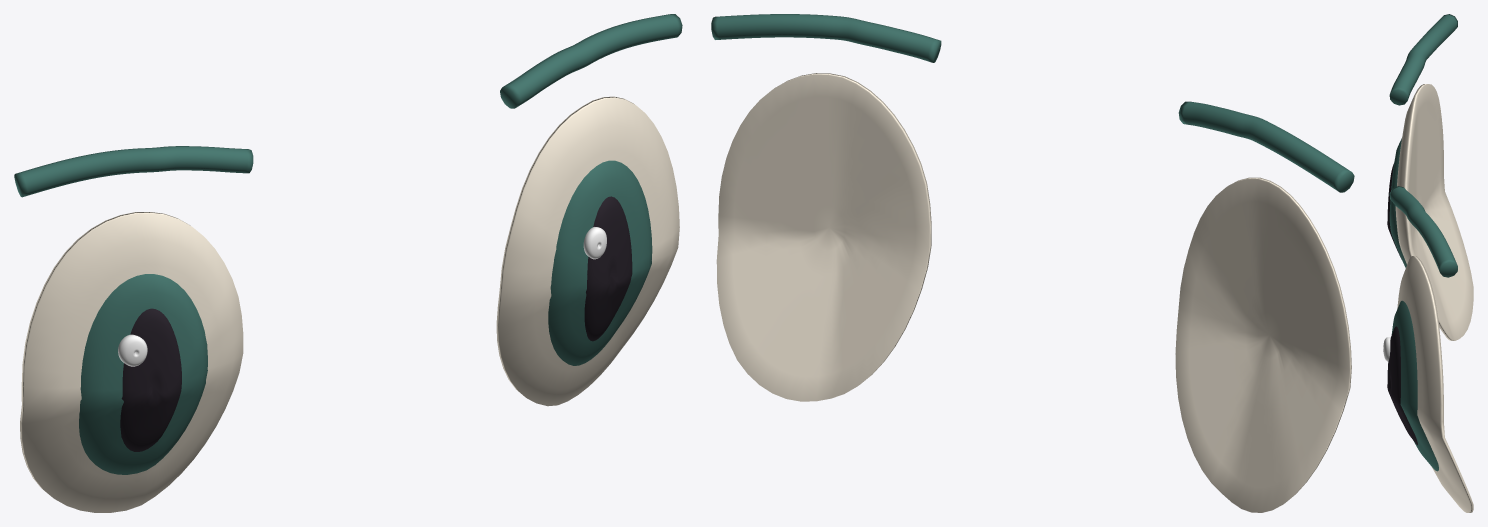
The model's file is 2HT-feminino.glb.
The picture shows the model from 3 angles, left to right: view 1: azimuth 30°, elevation 25°; view 2: azimuth 150°, elevation 25°; view 3: azimuth 270°, elevation 25°; orthographic projection. The views are drawn at different scales.
Parts seen in each view (by area): view 1: sclera--1, sclera-1, iris--1, iris-1, pupil--1, brow--1, brow-1, pupil-1, highlight--1; view 2: sclera-1, sclera--1, brow-1, brow--1; view 3: sclera--1, sclera-1, iris-1, brow--1, brow-1, pupil-1, iris--1, pupil--1, highlight-1.
Part boxes in pixels (x1=…): sclera--1: x1=20, y1=212, x2=243, y2=512; sclera-1: x1=496, y1=96, x2=679, y2=406; iris--1: x1=79, y1=274, x2=207, y2=474; iris-1: x1=548, y1=160, x2=652, y2=365; pupil--1: x1=120, y1=308, x2=181, y2=451; brow--1: x1=14, y1=146, x2=253, y2=197; brow-1: x1=500, y1=14, x2=682, y2=108; pupil-1: x1=584, y1=196, x2=632, y2=341; highlight--1: x1=118, y1=334, x2=147, y2=366; sclera-1: x1=716, y1=73, x2=931, y2=401; sclera--1: x1=1175, y1=177, x2=1351, y2=512; brow-1: x1=711, y1=14, x2=941, y2=62; brow--1: x1=1178, y1=101, x2=1354, y2=192; sclera--1: x1=1395, y1=84, x2=1473, y2=340; sclera-1: x1=1397, y1=256, x2=1473, y2=512; iris-1: x1=1391, y1=300, x2=1438, y2=471; brow--1: x1=1389, y1=14, x2=1457, y2=105; brow-1: x1=1389, y1=186, x2=1457, y2=277; pupil-1: x1=1387, y1=326, x2=1417, y2=445; iris--1: x1=1389, y1=138, x2=1406, y2=267; pupil--1: x1=1387, y1=164, x2=1401, y2=259; highlight-1: x1=1383, y1=337, x2=1390, y2=361.
Size of the model in its own units: 0.037 by 0.0203 by 0.00567.
